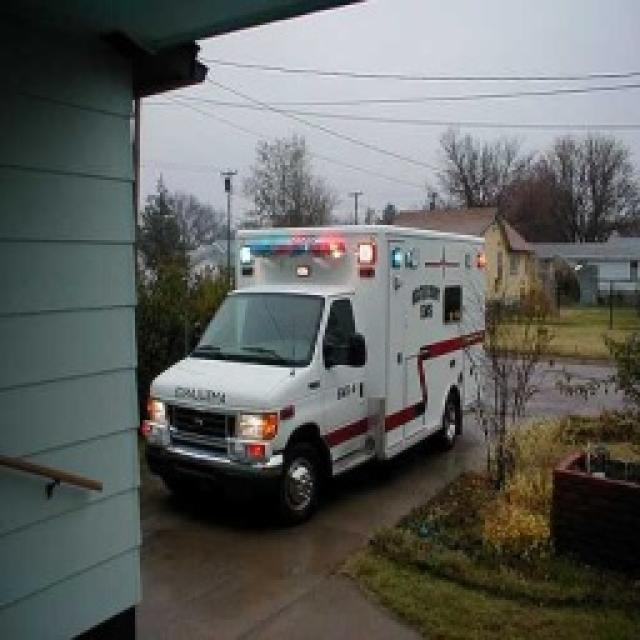ambulance: (181, 187, 526, 629)
